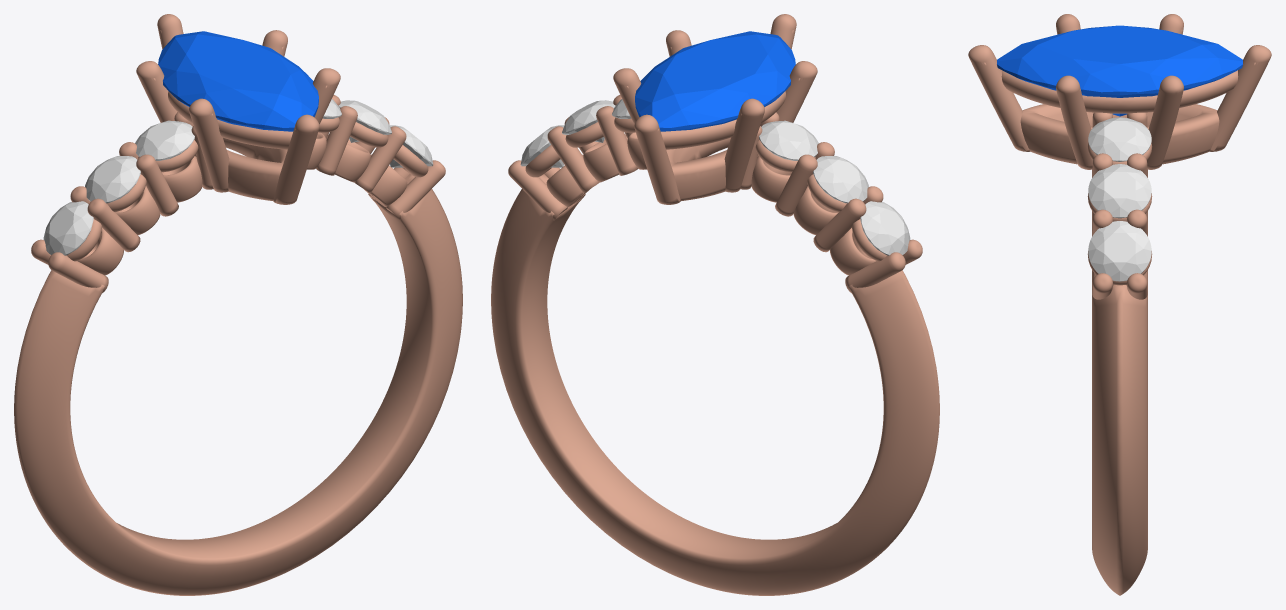
File: bluesapphire-marquise-rosegold-6prong-knifeedge-7stone.glb
3 renders of one model, left to right at view 1: azimuth 30°, elevation 25°; view 2: azimuth 150°, elevation 25°; view 3: azimuth 270°, elevation 25°, orthographic.
Parts seen in each view (by area): view 1: metal.001, stone.001, side.001, side.008, side.009, side.011, side.010; view 2: metal.001, stone.001, side.001, side.008, side.009, side.011, side.010; view 3: metal.001, stone.001, side.010, side.011, side.012.
Part boxes in pixels (x1=…): metal.001: x1=14, y1=14, x2=462, y2=595; stone.001: x1=158, y1=31, x2=318, y2=131; side.001: x1=43, y1=201, x2=93, y2=255; side.008: x1=85, y1=155, x2=140, y2=203; side.009: x1=135, y1=120, x2=194, y2=160; side.011: x1=338, y1=100, x2=391, y2=142; side.010: x1=389, y1=125, x2=433, y2=167; metal.001: x1=491, y1=14, x2=939, y2=595; stone.001: x1=635, y1=31, x2=795, y2=131; side.001: x1=860, y1=201, x2=910, y2=255; side.008: x1=813, y1=155, x2=868, y2=203; side.009: x1=759, y1=120, x2=818, y2=160; side.011: x1=562, y1=100, x2=615, y2=142; side.010: x1=520, y1=125, x2=564, y2=167; metal.001: x1=968, y1=14, x2=1271, y2=595; stone.001: x1=997, y1=25, x2=1242, y2=116; side.010: x1=1088, y1=221, x2=1151, y2=281; side.011: x1=1088, y1=164, x2=1151, y2=218; side.012: x1=1088, y1=117, x2=1151, y2=161.
Bounding box in the file's own units: 20.5 × 22.93 × 11.96.
